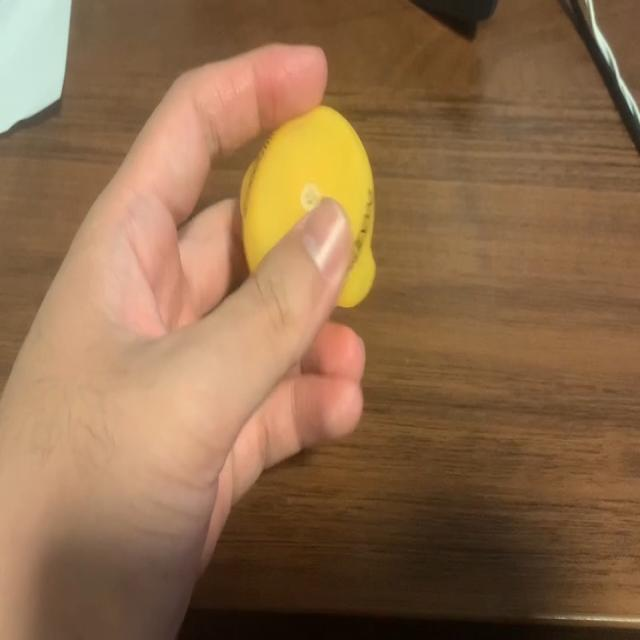rubber-duck: (239, 105, 374, 305)
